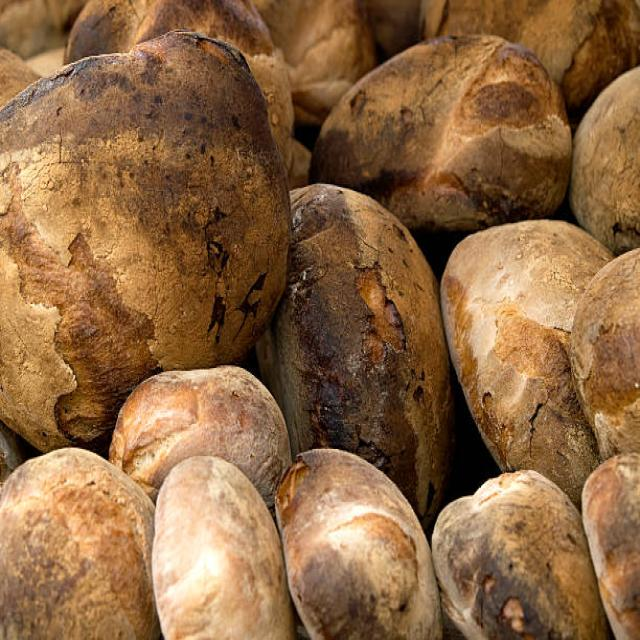Maltese-Bread: (0, 31, 289, 452), (256, 184, 454, 527), (311, 35, 571, 237), (441, 220, 612, 503), (276, 449, 441, 639), (0, 448, 158, 639), (432, 470, 610, 639), (109, 365, 291, 510), (152, 457, 296, 639)
